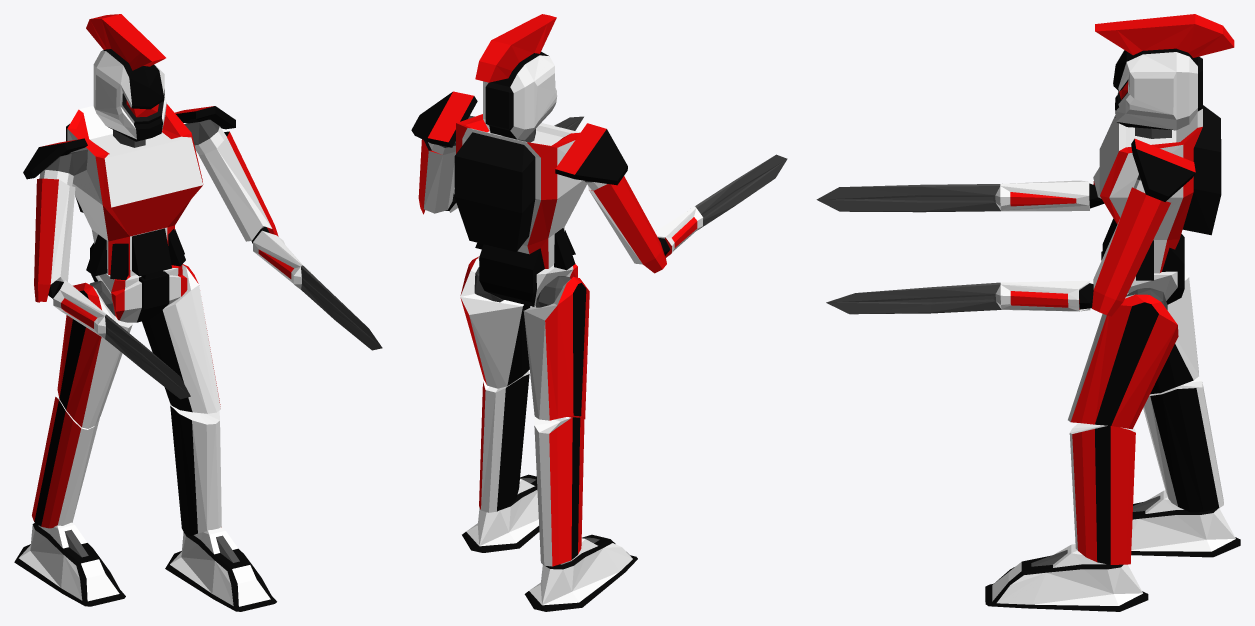
The model's file is robots_000014.obj.
3 renders of one model, left to right at view 1: azimuth 30°, elevation 25°; view 2: azimuth 150°, elevation 25°; view 3: azimuth 270°, elevation 25°, orthographic. The views are drawn at different scales.
Visible parts, largest first — view 1: Chest_plate_Cube.004, R_Forearm.001_Cube.028, Head_gladiator_Cube.024, R_Forearm.002_Cube.033, R_Thigh.002_Cube.027, R_Shin.002_Cube.029, R_Thigh_Cube.005, R_Foot_Cube, R_Foot.002_Cube.035, R_Shin_Cube.007, Pelvis_Cube.006, R_Arm.002_Cube.032 (+1 smaller); view 2: Chest_plate_Cube.004, Head_gladiator_Cube.024, R_Thigh_Cube.005, R_Forearm.001_Cube.028, R_Shin_Cube.007, R_Shin.002_Cube.029, R_Thigh.002_Cube.027, R_Foot_Cube, Pelvis_Cube.006, R_Foot.002_Cube.035, R_Arm.002_Cube.032, R_Forearm.002_Cube.033 (+2 smaller); view 3: R_Forearm.002_Cube.033, Head_gladiator_Cube.024, Chest_plate_Cube.004, R_Thigh.002_Cube.027, R_Shin.002_Cube.029, R_Forearm.001_Cube.028, R_Shin_Cube.007, R_Foot.002_Cube.035, R_Foot_Cube, R_Thigh_Cube.005, R_Arm.003_Cube.034, Pelvis_Cube.006.
Boxes of the visible parts, <box> form: Chest_plate_Cube.004: <box>66,104,203,280</box>; R_Forearm.001_Cube.028: <box>34,178,190,399</box>; Head_gladiator_Cube.024: <box>86,14,166,141</box>; R_Forearm.002_Cube.033: <box>198,131,382,350</box>; R_Thigh.002_Cube.027: <box>142,264,220,413</box>; R_Shin.002_Cube.029: <box>170,404,221,535</box>; R_Thigh_Cube.005: <box>57,282,132,428</box>; R_Foot_Cube: <box>14,522,125,606</box>; R_Foot.002_Cube.035: <box>165,527,276,611</box>; R_Shin_Cube.007: <box>32,396,99,528</box>; Pelvis_Cube.006: <box>90,243,187,322</box>; R_Arm.002_Cube.032: <box>23,138,87,186</box>; Chest_plate_Cube.004: <box>454,114,586,270</box>; Head_gladiator_Cube.024: <box>475,14,557,140</box>; R_Thigh_Cube.005: <box>523,277,589,420</box>; R_Forearm.001_Cube.028: <box>588,154,787,273</box>; R_Shin_Cube.007: <box>534,416,584,566</box>; R_Shin.002_Cube.029: <box>479,371,529,512</box>; R_Thigh.002_Cube.027: <box>460,256,530,388</box>; R_Foot_Cube: <box>524,534,637,611</box>; Pelvis_Cube.006: <box>478,244,577,306</box>; R_Foot.002_Cube.035: <box>462,474,539,552</box>; R_Arm.002_Cube.032: <box>555,123,627,190</box>; R_Forearm.002_Cube.033: <box>418,116,583,214</box>; R_Forearm.002_Cube.033: <box>826,187,1170,316</box>; Head_gladiator_Cube.024: <box>1095,14,1234,130</box>; Chest_plate_Cube.004: <box>1099,105,1221,280</box>; R_Thigh.002_Cube.027: <box>1068,294,1178,429</box>; R_Shin.002_Cube.029: <box>1069,423,1135,564</box>; R_Forearm.001_Cube.028: <box>816,167,1104,212</box>; R_Shin_Cube.007: <box>1143,377,1223,512</box>; R_Foot.002_Cube.035: <box>985,544,1148,611</box>; R_Foot_Cube: <box>1131,490,1240,557</box>; R_Thigh_Cube.005: <box>1150,268,1198,394</box>; R_Arm.003_Cube.034: <box>1131,138,1195,201</box>; Pelvis_Cube.006: <box>1101,234,1184,304</box>.
Bounding box in the file's own units: 1.51 × 3.17 × 2.2.
